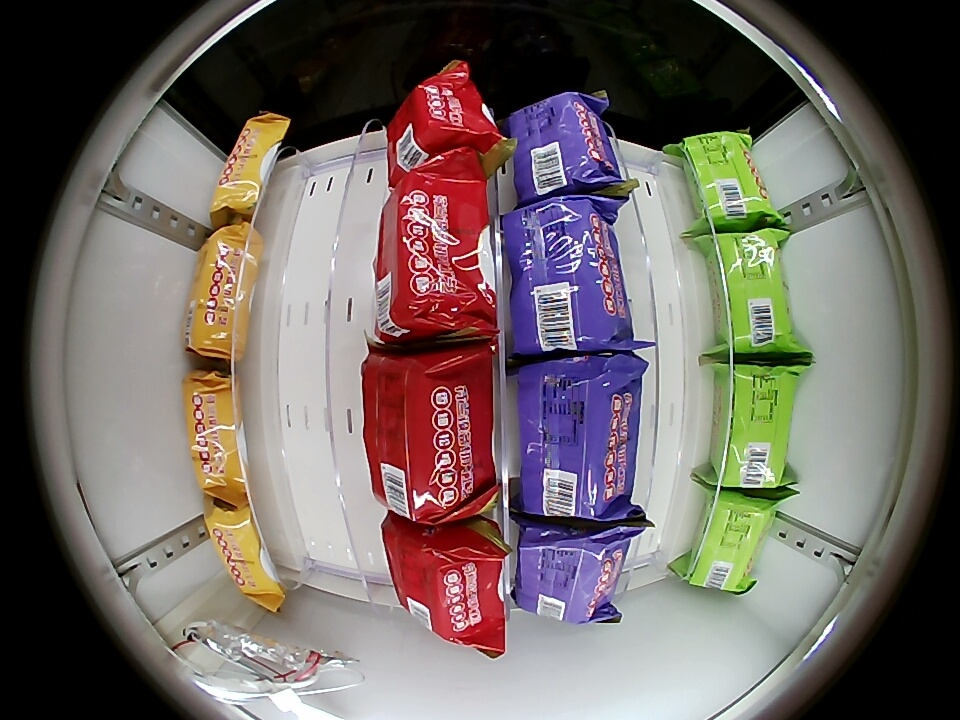kaomo_gali: (183, 227, 264, 359), (203, 497, 283, 607), (183, 370, 250, 496), (210, 114, 289, 219)
kaomo_jiaoyan: (503, 195, 632, 357), (516, 355, 642, 518), (506, 92, 622, 205), (515, 516, 631, 625)
kaomo_shaokao: (362, 344, 498, 523), (374, 157, 497, 343), (383, 517, 508, 650), (386, 69, 500, 183)
kaomo_xiangcon: (704, 231, 794, 359), (708, 362, 796, 488), (682, 131, 775, 233), (686, 488, 777, 592)
